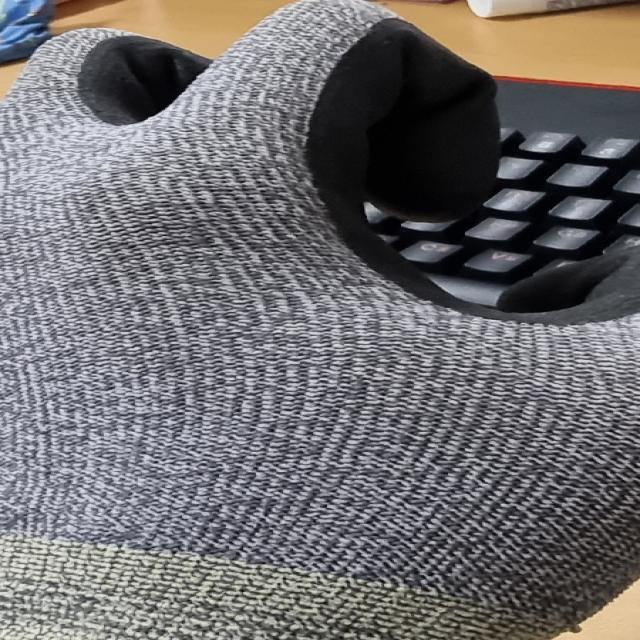Gloves: (2, 0, 640, 637)
